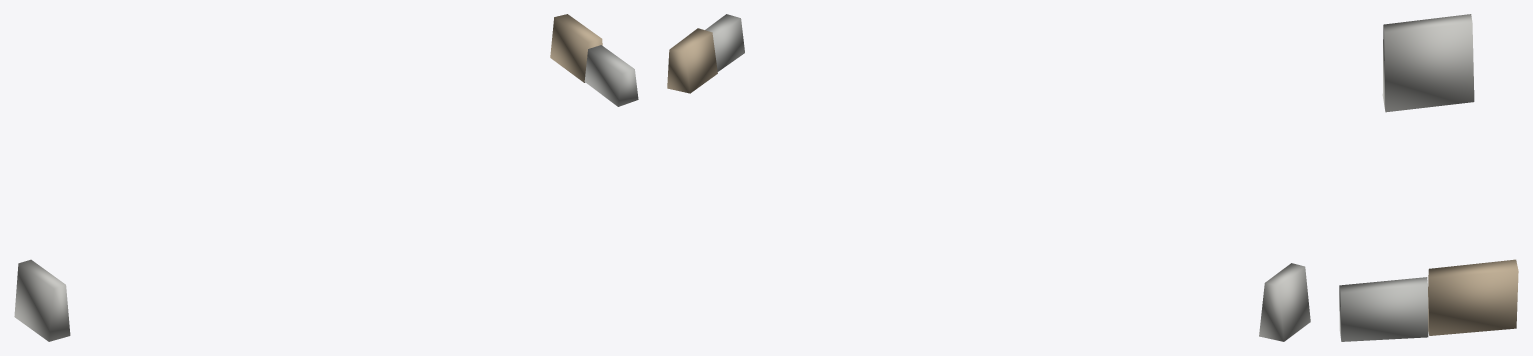
Rendered from farm_-34_-49_far.glb.
The picture shows the model from 3 angles, left to right: view 1: azimuth 30°, elevation 25°; view 2: azimuth 150°, elevation 25°; view 3: azimuth 270°, elevation 25°; orthographic projection. The views are drawn at different scales.
Parts seen in each view (by area): view 1: geometry_0; view 2: geometry_0; view 3: geometry_0.
Part boxes in pixels (<box>): geometry_0: <box>14,14,638,341</box>; geometry_0: <box>667,14,1310,341</box>; geometry_0: <box>1339,14,1518,341</box>.
Size of the model in its own units: 17.14 by 4.43 by 3.15.
